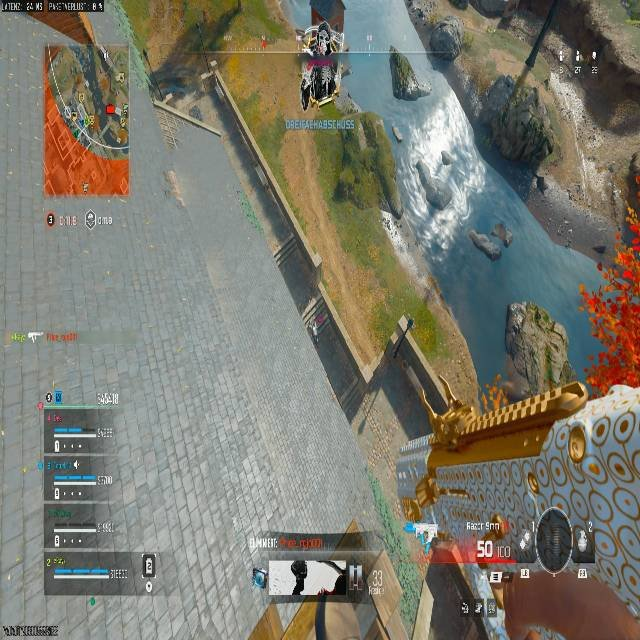player: (296, 20, 342, 106)
